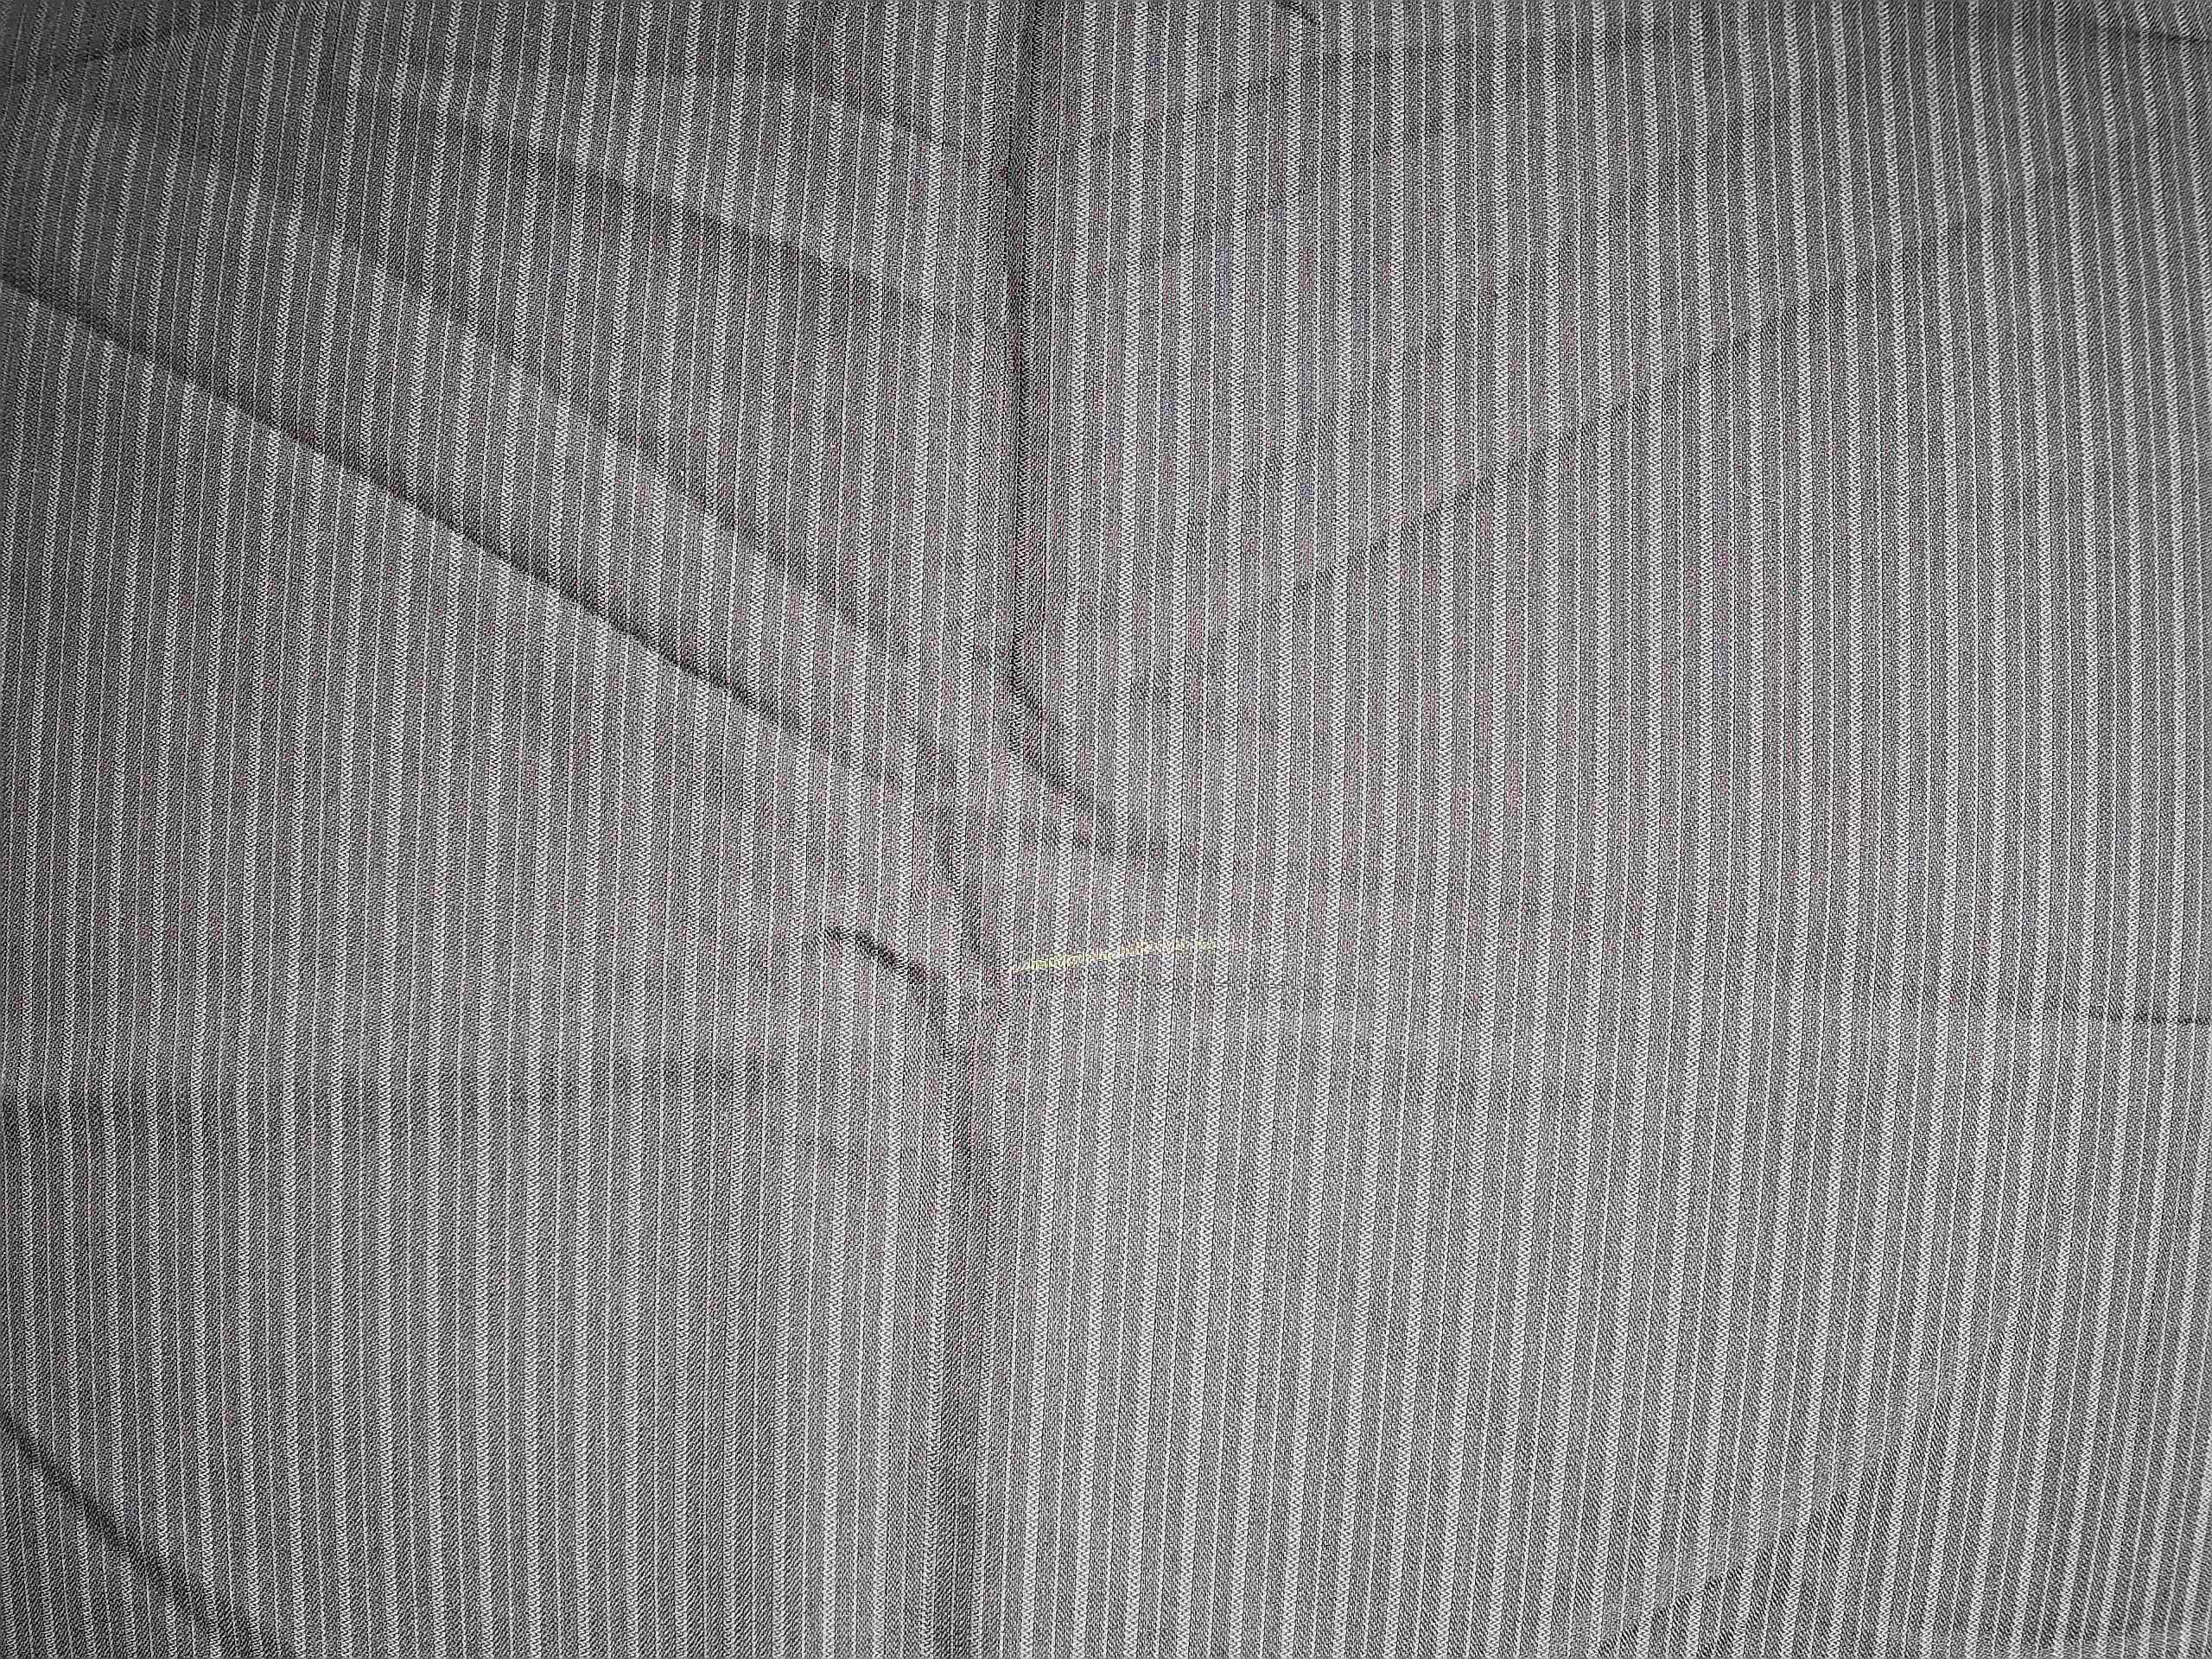thin-spinning: (1022, 962, 1374, 1009)
